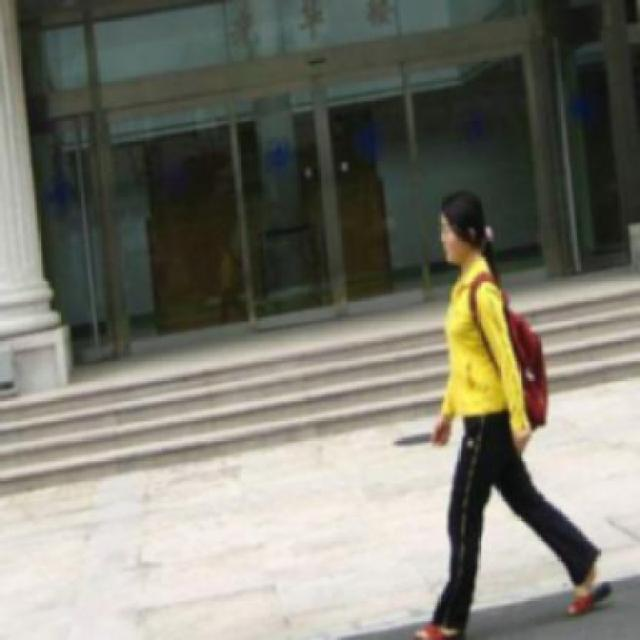Person: (408, 181, 620, 639)
